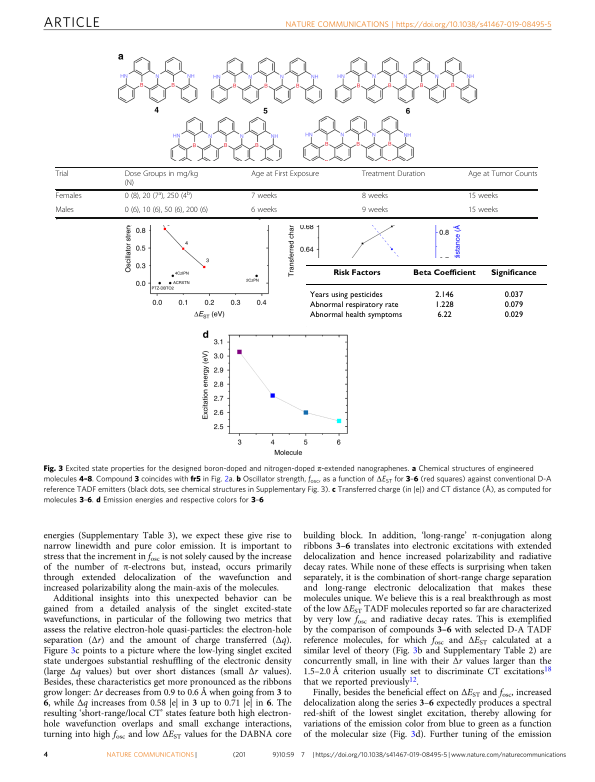borderless: (54, 166, 537, 217), (304, 263, 548, 328)
cell: (124, 170, 199, 188), (309, 310, 403, 320), (309, 300, 399, 310), (124, 206, 209, 216), (124, 190, 193, 202), (309, 290, 383, 299), (467, 170, 538, 179), (250, 170, 320, 179), (361, 170, 426, 179), (412, 268, 476, 277), (332, 268, 381, 277), (490, 268, 537, 277), (467, 192, 499, 202), (467, 206, 499, 216), (250, 192, 278, 202), (361, 192, 389, 202), (250, 206, 278, 216), (361, 206, 389, 216), (55, 192, 82, 202), (503, 300, 524, 310), (503, 310, 524, 320), (54, 206, 75, 216), (434, 300, 454, 310), (503, 290, 524, 299), (434, 290, 454, 299), (436, 310, 452, 320), (55, 170, 69, 179)
